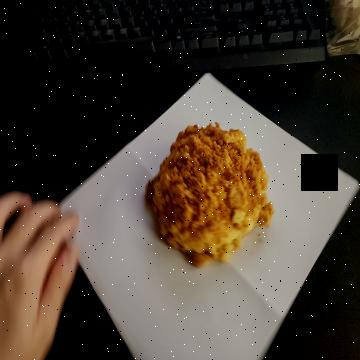soboru_bread: (145, 126, 273, 264)
